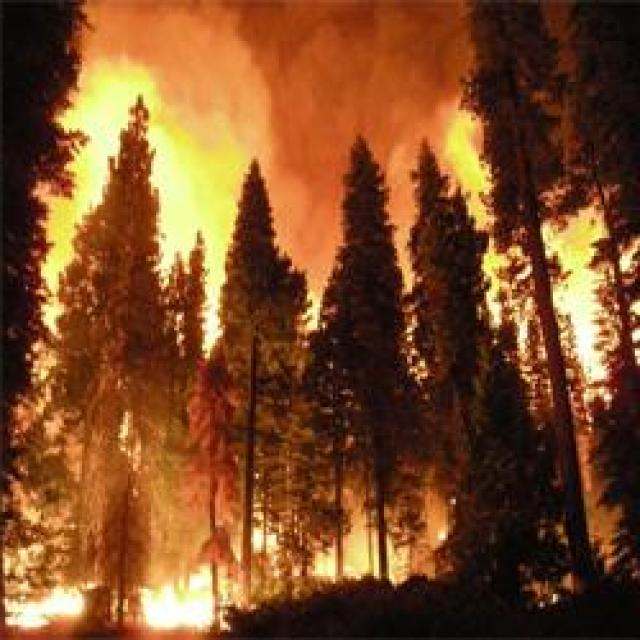fire: (147, 583, 209, 628), (570, 272, 600, 354), (85, 89, 127, 139), (447, 116, 480, 178), (28, 590, 80, 624), (564, 220, 594, 266)
smoke: (264, 0, 419, 97), (180, 52, 260, 174), (376, 0, 462, 104), (80, 0, 172, 85), (156, 5, 264, 70), (278, 134, 336, 240), (378, 91, 421, 166)
